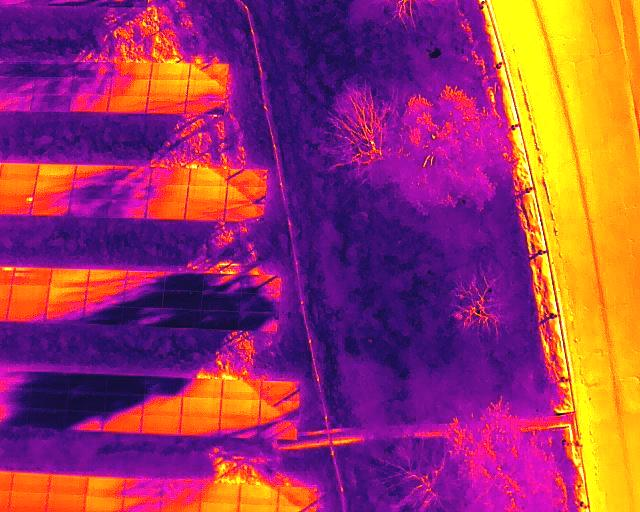Cell: (0, 196, 34, 214)
Cell-Multi: (12, 267, 50, 286)
No-Anomaly: (8, 492, 47, 512), (140, 415, 180, 434), (181, 398, 220, 417), (10, 473, 49, 492), (87, 477, 125, 496), (9, 285, 47, 304), (239, 485, 279, 502), (220, 399, 260, 416), (49, 476, 86, 494), (202, 483, 239, 501), (187, 185, 226, 202), (147, 202, 186, 219), (109, 96, 147, 113), (149, 80, 189, 96), (47, 495, 86, 511), (0, 164, 39, 180), (86, 495, 124, 511), (152, 63, 189, 79), (0, 179, 35, 195), (38, 165, 74, 180)
Shadowing: (219, 417, 259, 438), (8, 303, 47, 324), (259, 419, 298, 439), (163, 308, 202, 328), (185, 202, 225, 221), (47, 304, 87, 323), (179, 417, 218, 436), (151, 166, 190, 185), (242, 275, 281, 294), (127, 271, 166, 290), (125, 288, 164, 307), (261, 382, 300, 401), (107, 376, 144, 396), (185, 96, 226, 114), (68, 198, 109, 216), (181, 380, 222, 398), (29, 410, 67, 429), (203, 274, 241, 293), (125, 307, 163, 326), (241, 293, 279, 312), (68, 393, 106, 412), (29, 391, 67, 410), (240, 312, 278, 331), (221, 381, 261, 399), (279, 487, 316, 506), (164, 480, 201, 499), (87, 287, 124, 306), (87, 306, 124, 325), (260, 401, 299, 419), (104, 395, 143, 413), (103, 414, 142, 432), (112, 167, 151, 185), (108, 200, 147, 218), (163, 291, 202, 309), (30, 373, 69, 391), (125, 479, 163, 497), (142, 397, 180, 415), (70, 94, 108, 112), (33, 196, 69, 215), (51, 269, 89, 287), (70, 374, 106, 393), (143, 378, 181, 396), (72, 180, 110, 198), (147, 185, 187, 202), (112, 79, 149, 97), (114, 62, 151, 80), (202, 311, 239, 329), (149, 96, 188, 113), (225, 205, 264, 222), (229, 169, 267, 186), (202, 293, 240, 310), (166, 273, 203, 290), (72, 78, 111, 94), (187, 80, 226, 96), (74, 165, 113, 181), (189, 169, 228, 185), (227, 187, 266, 203), (48, 287, 87, 303), (31, 94, 70, 110), (68, 412, 104, 429), (34, 78, 72, 94), (89, 270, 126, 286), (110, 183, 147, 199), (34, 181, 71, 197), (39, 61, 75, 77), (124, 497, 162, 512), (75, 61, 113, 76), (190, 65, 227, 80)
